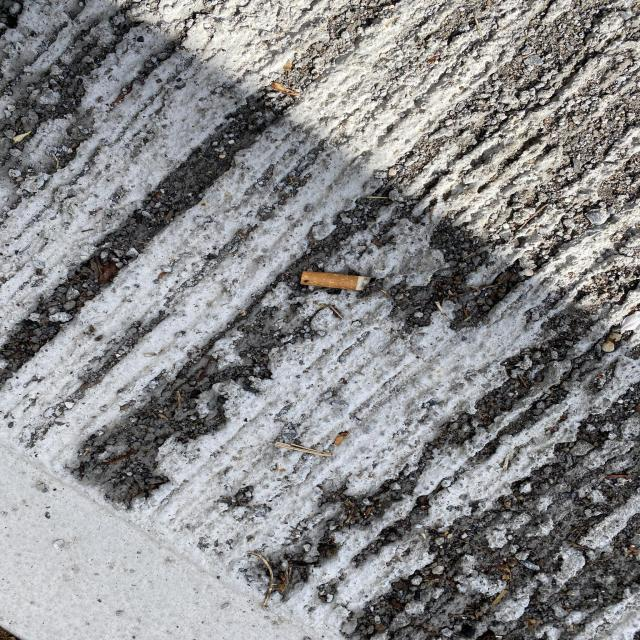other waste: (301, 271, 376, 291)
